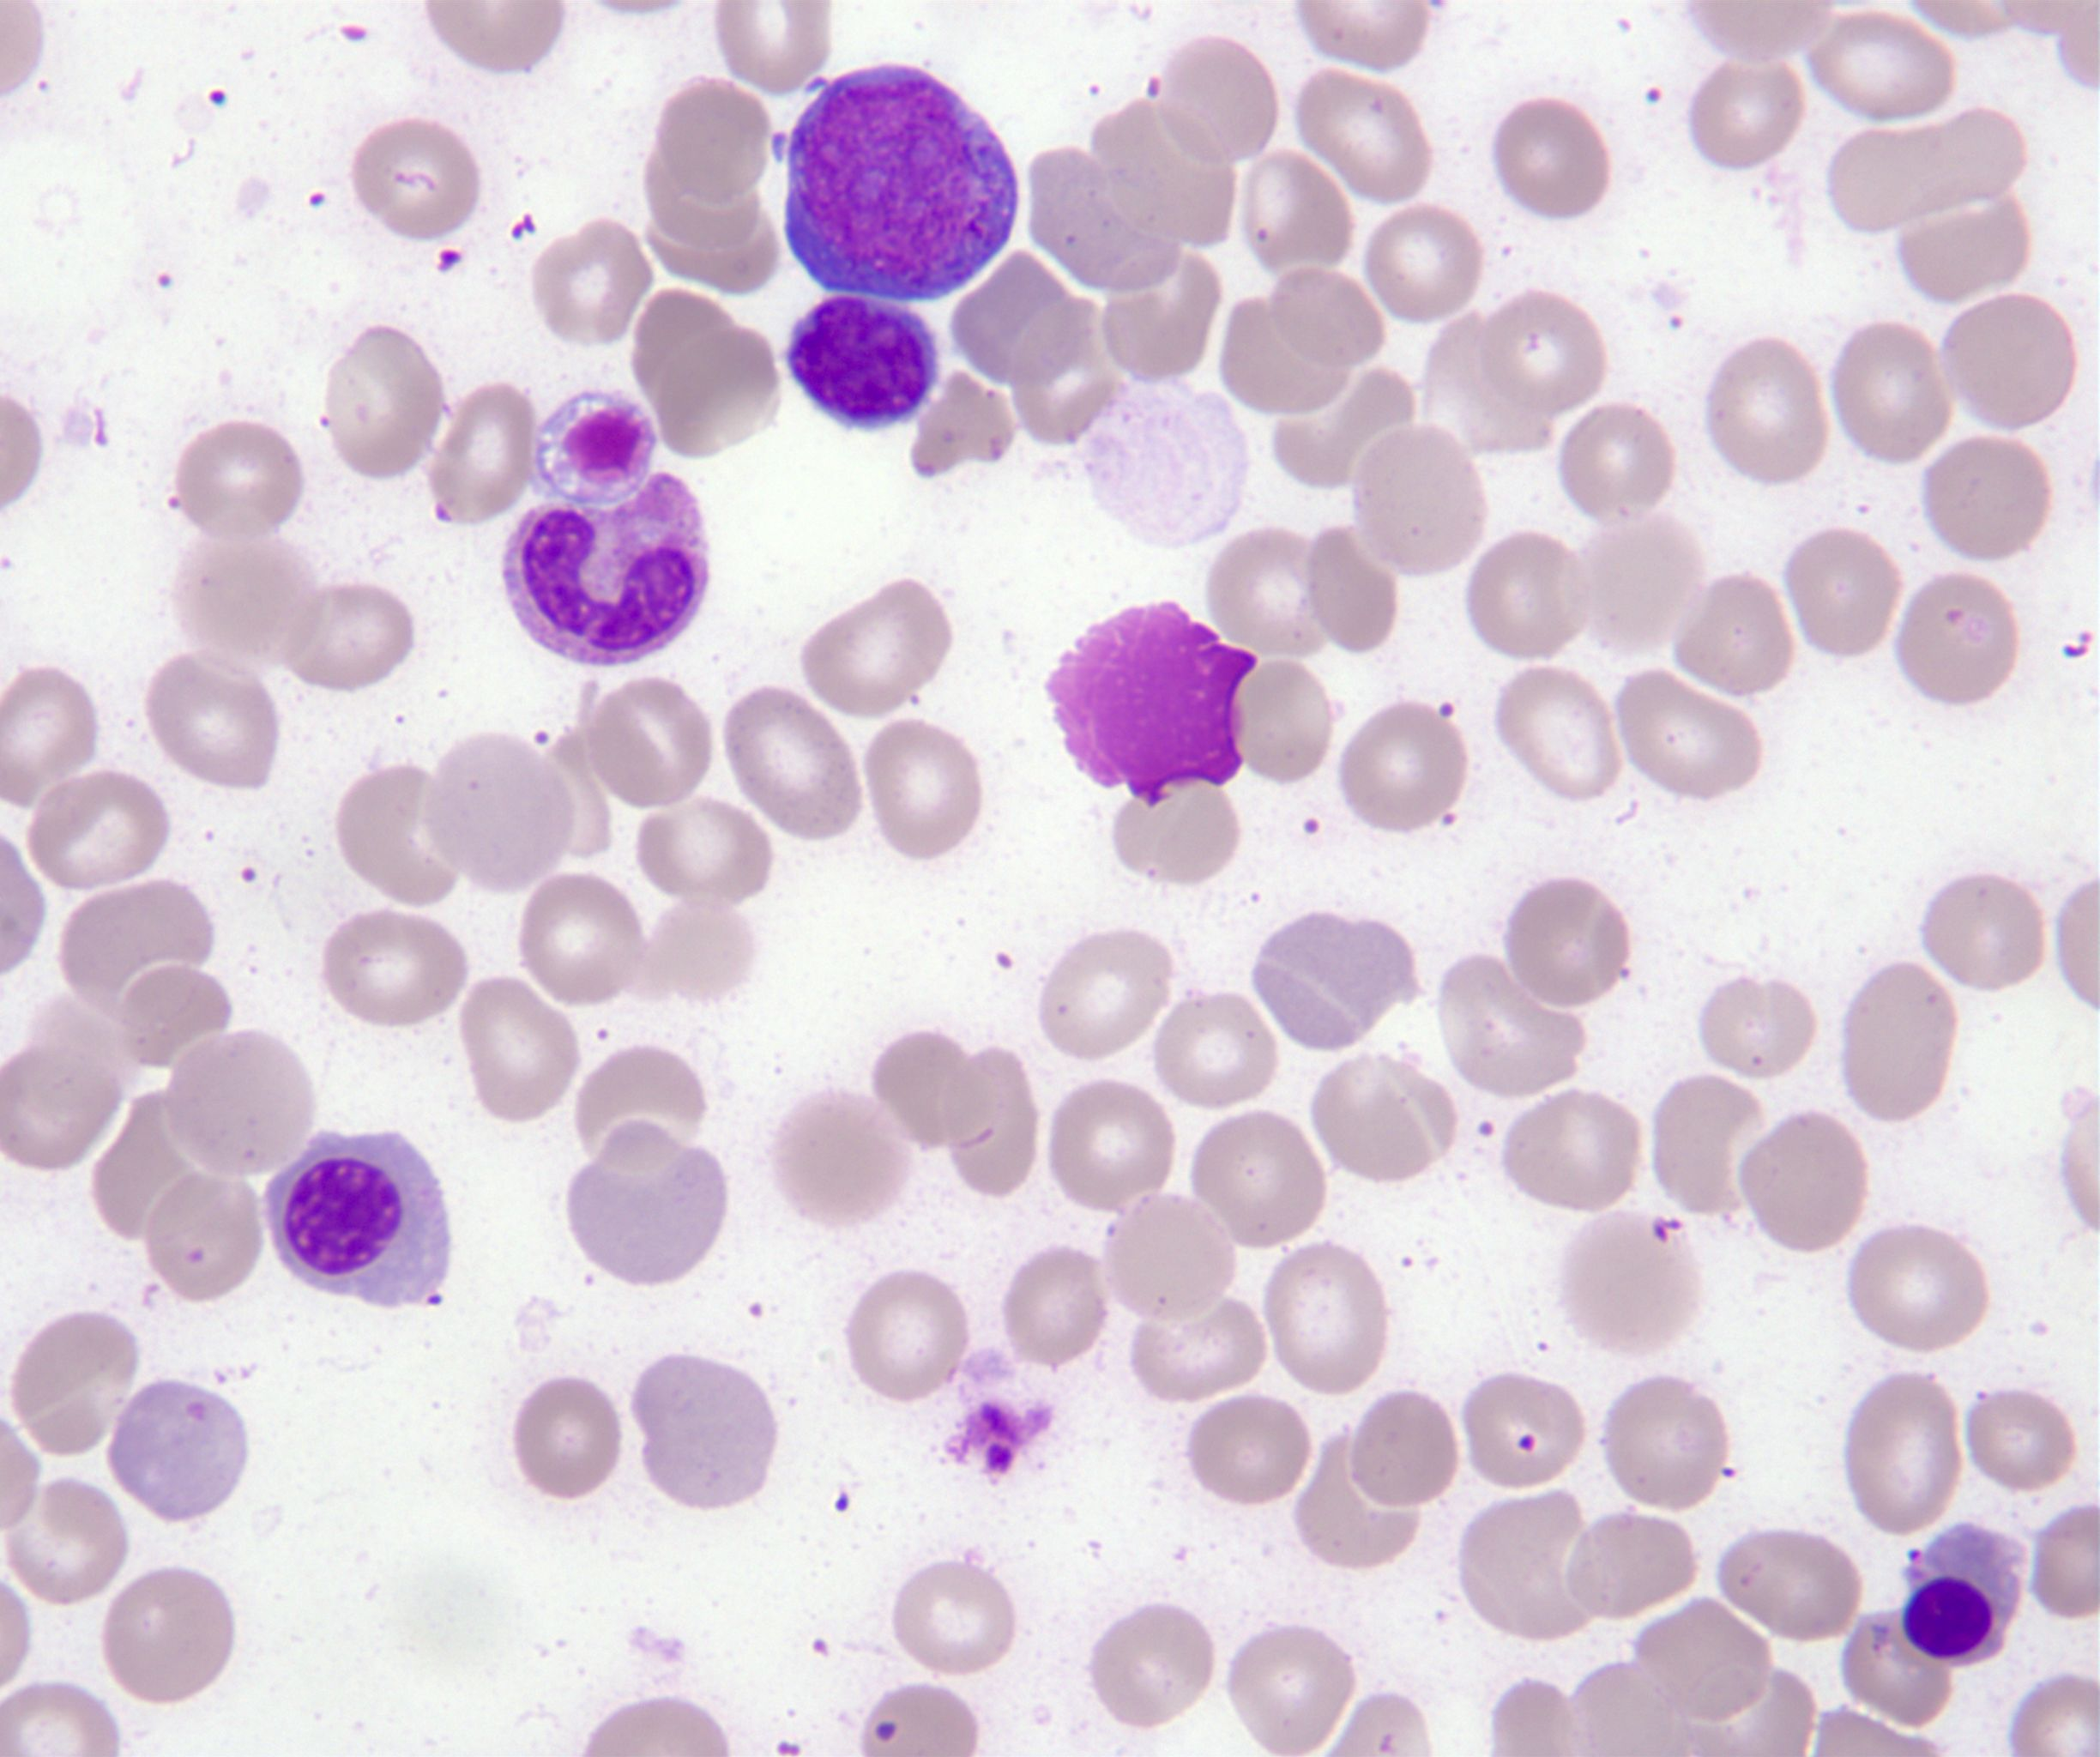2: (785, 65, 1020, 298)
23: (787, 297, 937, 431)
24: (267, 1131, 450, 1309), (1896, 1523, 2020, 1665)
5: (504, 475, 708, 665)
x: (1045, 600, 1254, 806), (537, 389, 656, 508)
